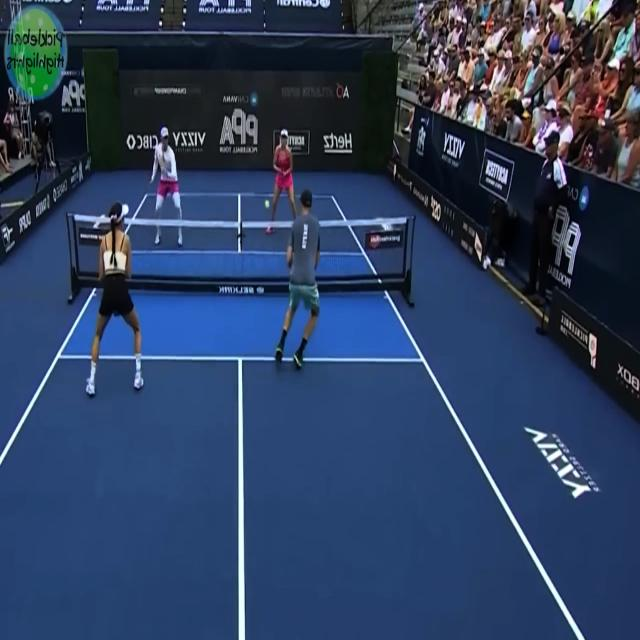Pickleball: (264, 196, 271, 210)
